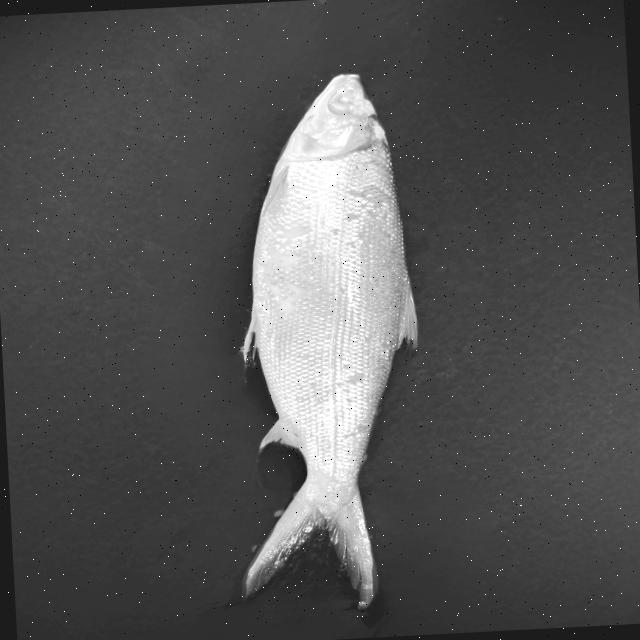785 g: (217, 71, 431, 616)
